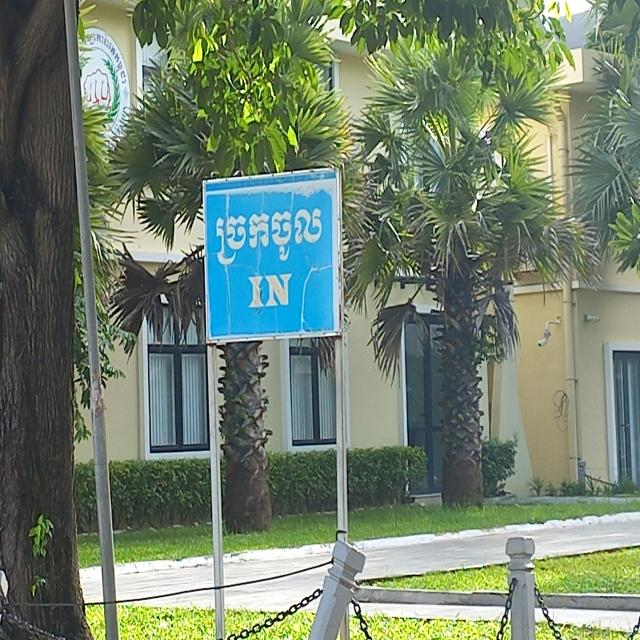Yolov11_80vkh: (212, 192, 330, 277)
